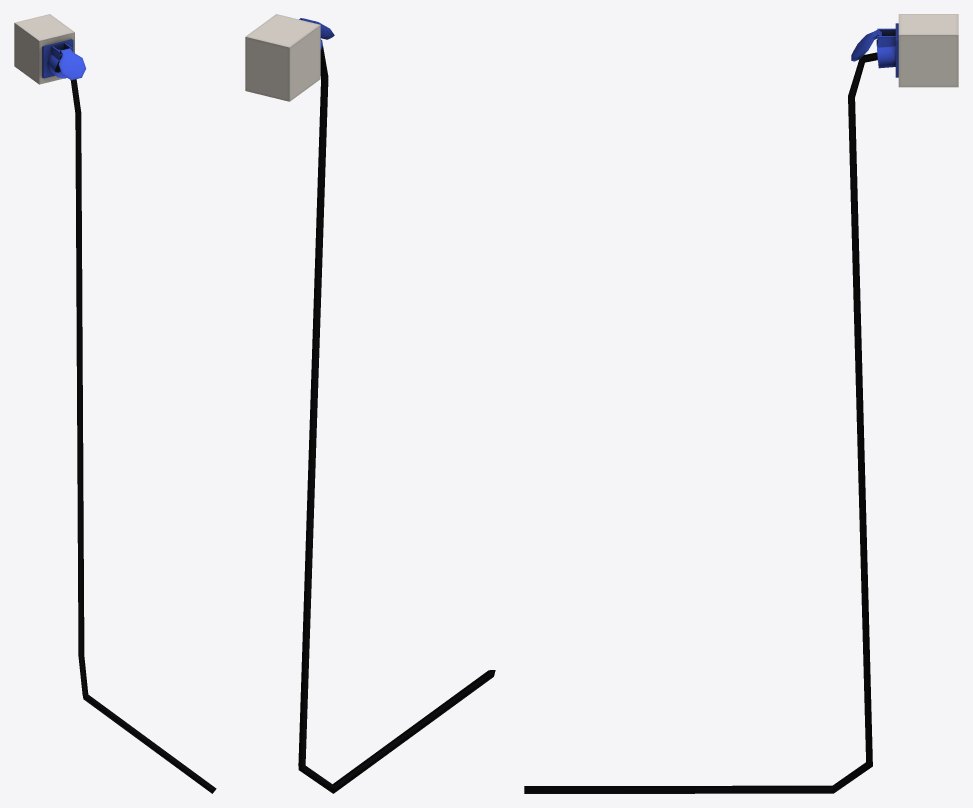
Rendered from Tomacorriente.FBX.
3 views of the same model, side by side, from view 1: azimuth 30°, elevation 25°; view 2: azimuth 150°, elevation 25°; view 3: azimuth 270°, elevation 25° (orthographic). The views are drawn at different scales.
Visible parts, largest first — view 1: Tomacorriente; view 2: Tomacorriente; view 3: Tomacorriente.
Boxes of the visible parts, <box> form: Tomacorriente: <box>14,14,216,793</box>; Tomacorriente: <box>245,14,495,793</box>; Tomacorriente: <box>524,14,958,793</box>.
Bounding box in the file's own units: 0.0792 × 1.36 × 0.6955.
2 materials, 1 textured.
